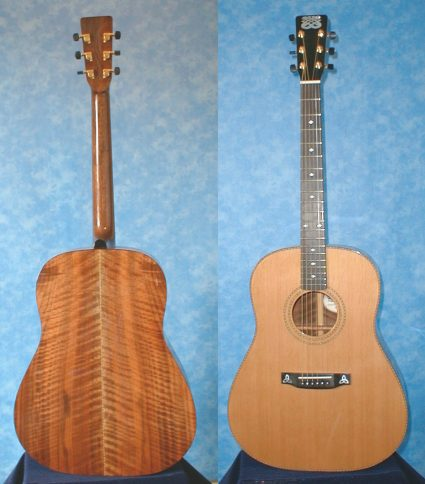guitar: (226, 14, 410, 474), (15, 17, 197, 479)
